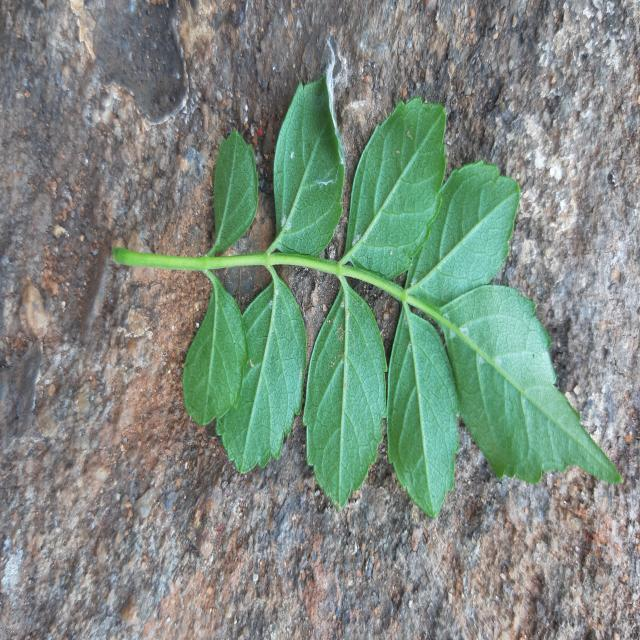tecoma: (184, 78, 620, 516)
